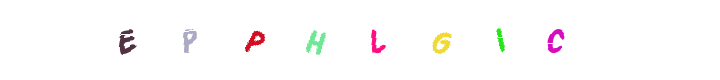C: (460, 0, 540, 80)
E: (86, 0, 166, 80)
G: (401, 0, 481, 80)
H: (290, 0, 370, 80)
I: (433, 0, 513, 80)
L: (320, 0, 400, 80)
P: (193, 0, 273, 80), (215, 0, 295, 80)
